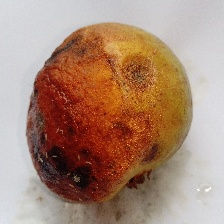guava: (34, 42, 196, 218)
